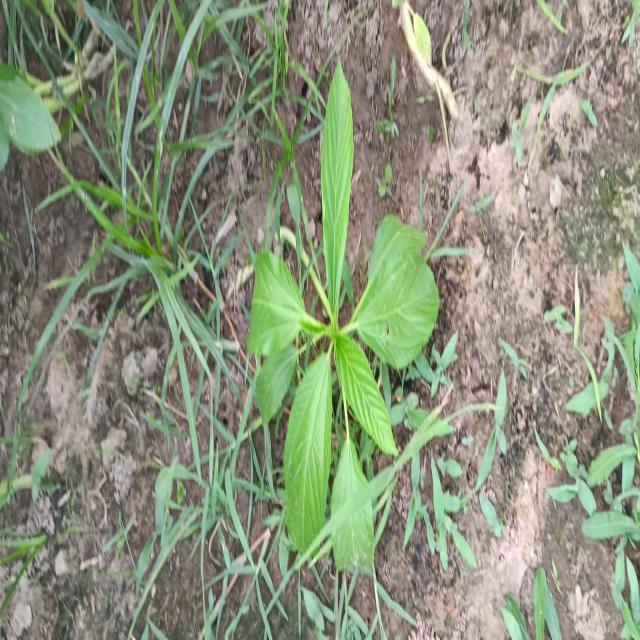plant: (248, 64, 440, 569)
